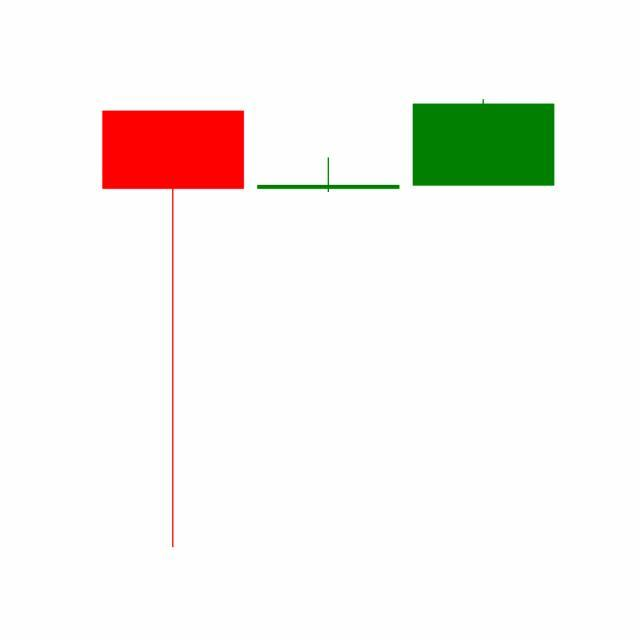Marubozu: (406, 99, 562, 187)
